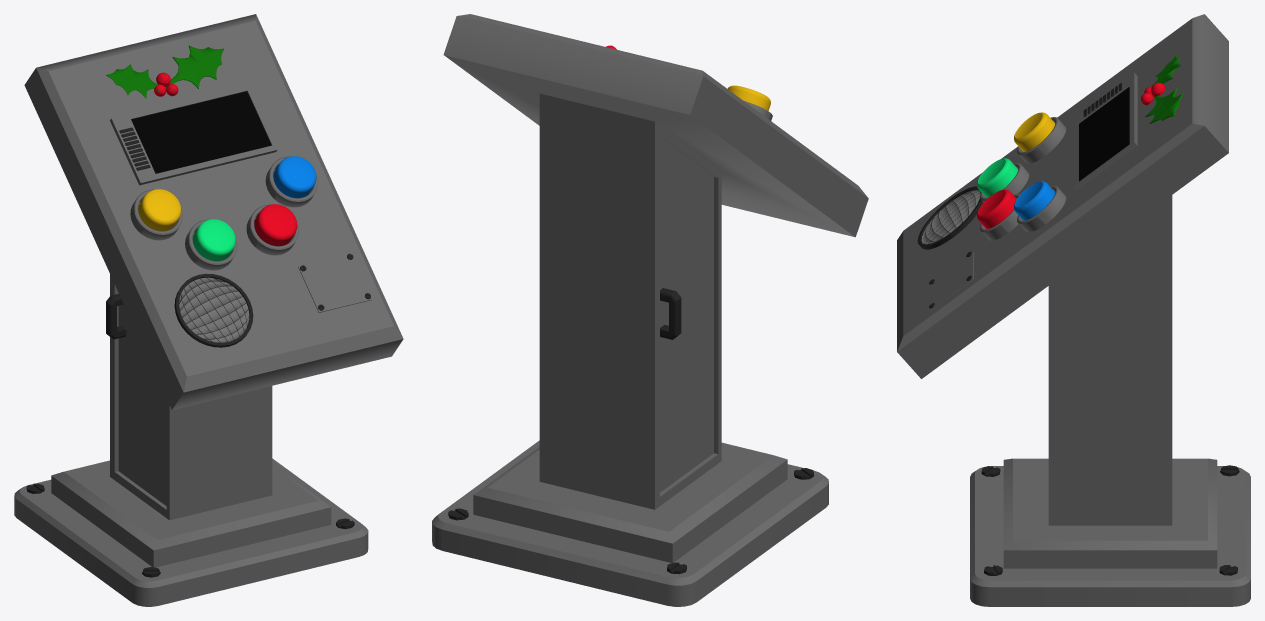
Rendered from Buttons table.glb.
The picture shows the model from 3 angles, left to right: view 1: azimuth 30°, elevation 25°; view 2: azimuth 150°, elevation 25°; view 3: azimuth 270°, elevation 25°; orthographic projection. The views are drawn at different scales.
Parts seen in each view (by area): view 1: Sm_ButtonConsole, SM_Button4, SM_Button1, SM_Button3, SM_Button2; view 2: Sm_ButtonConsole; view 3: Sm_ButtonConsole, SM_Button1, SM_Button2, SM_Button3, SM_Button4.
Boxes of the visible parts, bbox=[...] form: Sm_ButtonConsole: bbox=[14, 14, 403, 606]; SM_Button4: bbox=[254, 204, 297, 246]; SM_Button1: bbox=[273, 156, 316, 198]; SM_Button3: bbox=[192, 219, 235, 261]; SM_Button2: bbox=[138, 189, 181, 231]; Sm_ButtonConsole: bbox=[432, 14, 868, 606]; Sm_ButtonConsole: bbox=[897, 14, 1250, 606]; SM_Button1: bbox=[1014, 181, 1055, 220]; SM_Button2: bbox=[1014, 112, 1055, 151]; SM_Button3: bbox=[977, 158, 1018, 197]; SM_Button4: bbox=[977, 189, 1016, 228].
Bounding box in the file's own units: 0.8733 × 1.64 × 1.1.
